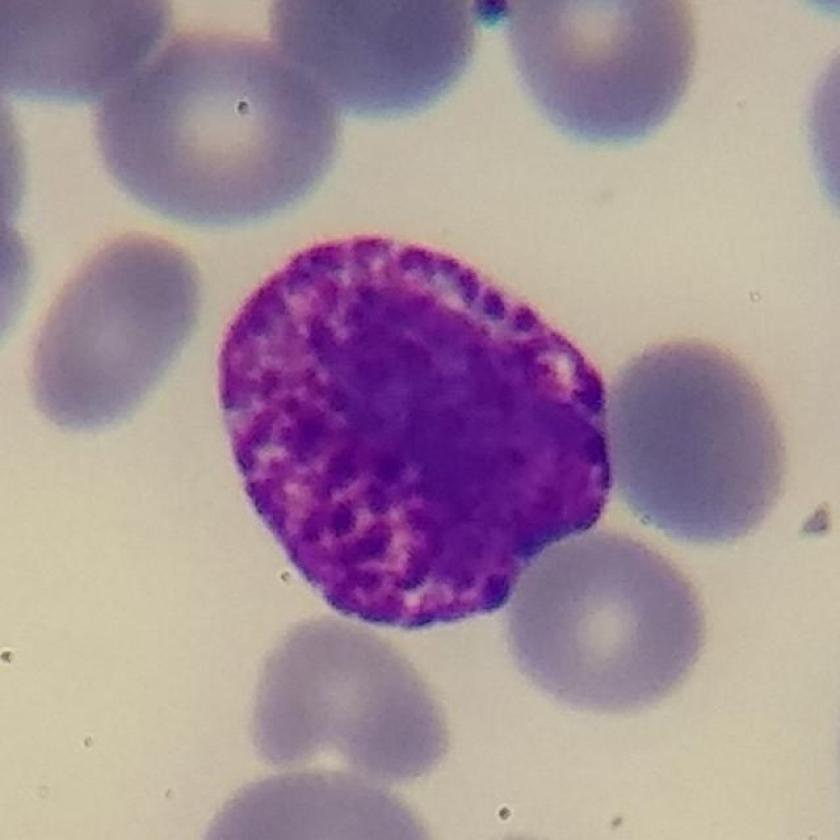basophil: (214, 209, 632, 641)
